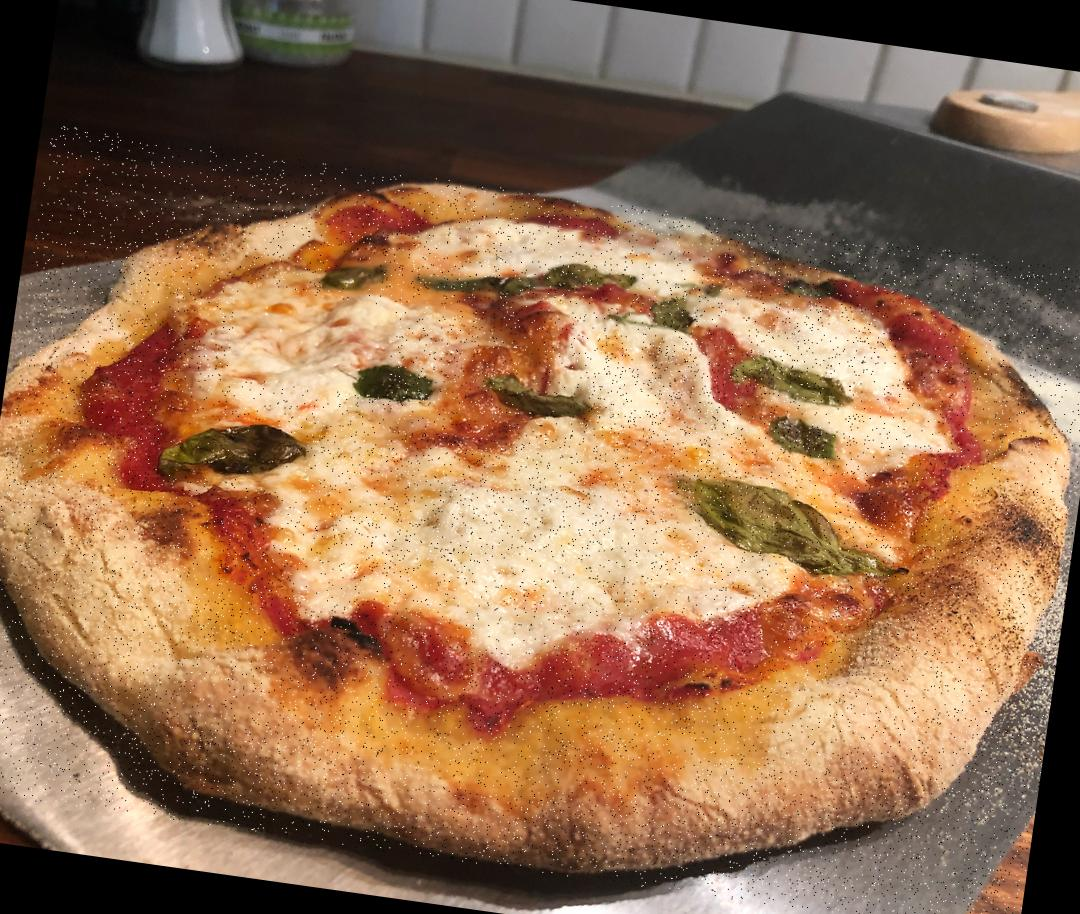Basil: (681, 470, 864, 582), (157, 410, 308, 492), (496, 241, 632, 303), (730, 344, 852, 398), (356, 355, 436, 411), (497, 372, 577, 416), (324, 247, 384, 302), (646, 292, 700, 338), (777, 424, 825, 453)
Cheese: (324, 410, 710, 626), (446, 214, 673, 298), (228, 285, 396, 398), (582, 334, 735, 448), (746, 296, 884, 378)
Pizza: (0, 124, 1080, 914)
